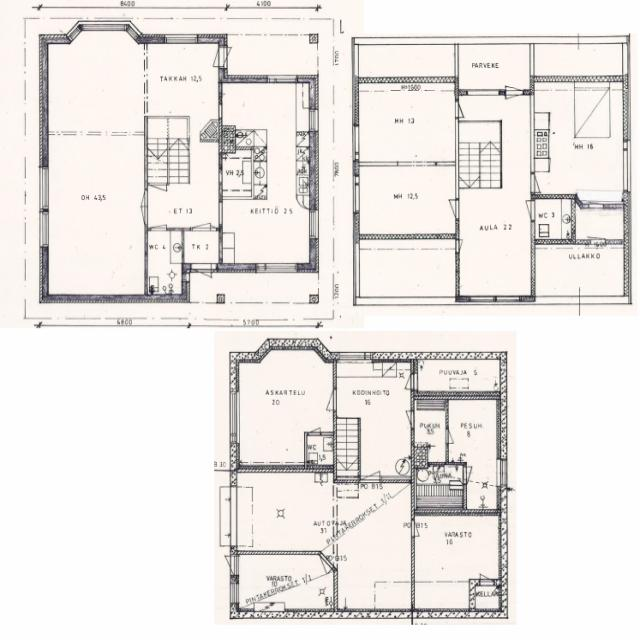door: (307, 553, 334, 584), (190, 263, 212, 295), (212, 556, 238, 576), (219, 47, 245, 67), (202, 47, 228, 67), (505, 90, 524, 115), (505, 70, 524, 94), (192, 208, 210, 232), (316, 389, 336, 410), (437, 199, 458, 218), (396, 372, 418, 390), (532, 173, 552, 192), (364, 460, 381, 482), (480, 562, 496, 585), (395, 411, 415, 429), (515, 202, 535, 220), (411, 519, 430, 537), (128, 207, 147, 225), (150, 182, 166, 203), (128, 190, 147, 207), (589, 188, 603, 209), (454, 101, 472, 117), (464, 468, 481, 484), (445, 428, 461, 444), (153, 213, 166, 232), (593, 227, 606, 245), (454, 241, 470, 255), (309, 420, 320, 436), (211, 263, 218, 279), (210, 222, 216, 232)
